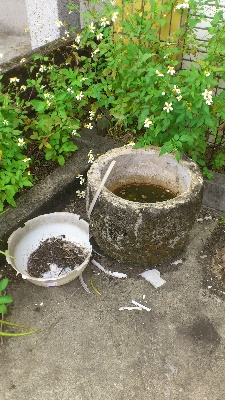bucket: (86, 141, 206, 266)
plate: (2, 211, 99, 287)
